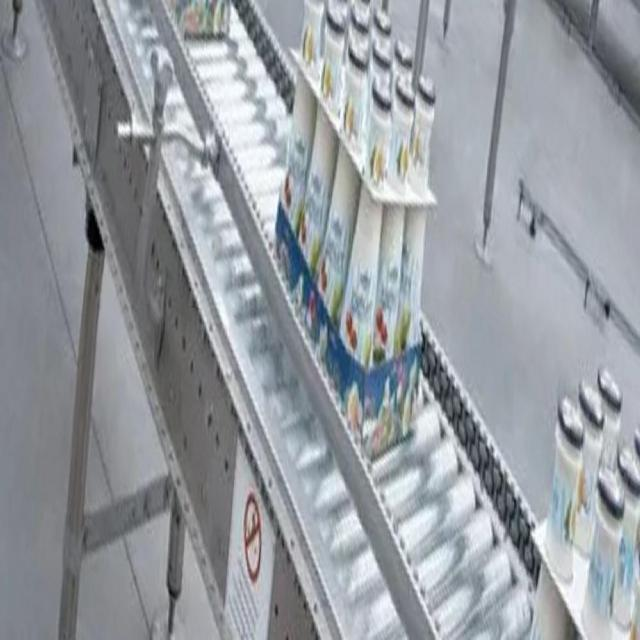bottle: (272, 1, 439, 462), (532, 358, 639, 640)
